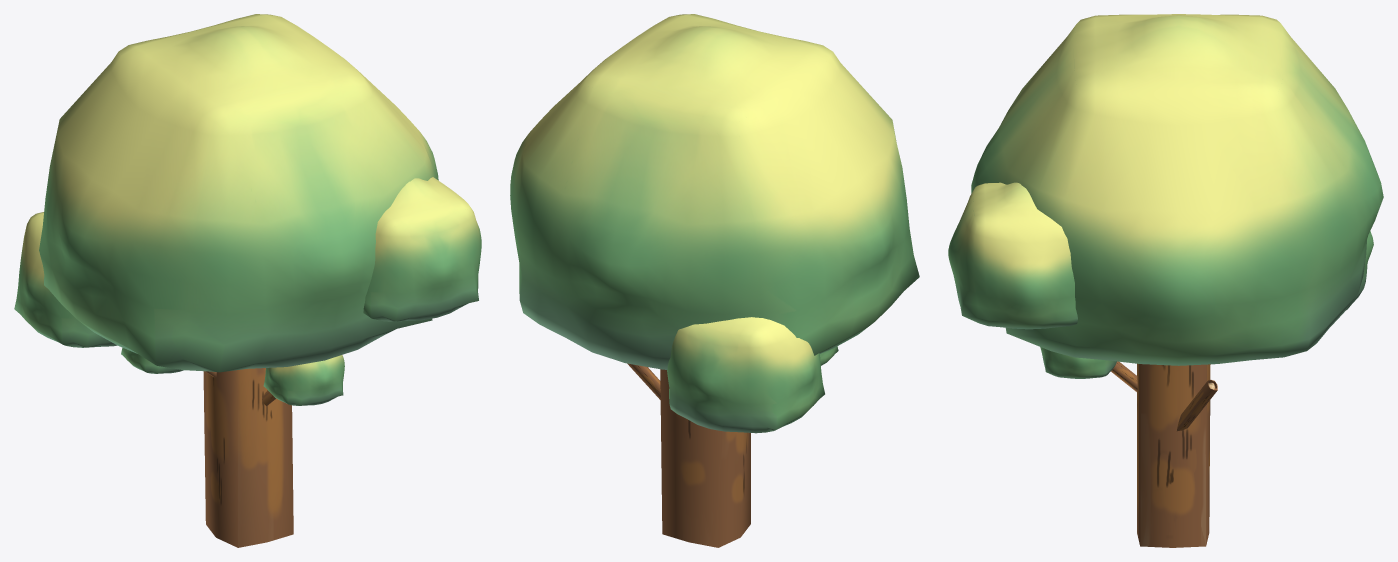
File: Arvore2.fbx
3 views of the same model, side by side, from view 1: azimuth 30°, elevation 25°; view 2: azimuth 150°, elevation 25°; view 3: azimuth 270°, elevation 25° (orthographic). The views are drawn at different scales.
Parts seen in each view (by area): view 1: ArvoreFolhas, ArvoreTronco, ArvoreFolhas.001, ArvoreFolhas.002, ArvoreFolhas.003, ArvoreFolhas.004; view 2: ArvoreFolhas, ArvoreFolhas.002, ArvoreTronco; view 3: ArvoreFolhas, ArvoreFolhas.001, ArvoreTronco, ArvoreFolhas.003, ArvoreTronco.002.
Boxes of the visible parts, <box> form: ArvoreFolhas: <box>39,14,438,372</box>; ArvoreTronco: <box>203,368,293,547</box>; ArvoreFolhas.001: <box>363,177,481,321</box>; ArvoreFolhas.002: <box>14,212,117,347</box>; ArvoreFolhas.003: <box>263,355,344,405</box>; ArvoreFolhas.004: <box>121,347,183,373</box>; ArvoreFolhas: <box>510,14,919,369</box>; ArvoreFolhas.002: <box>667,317,824,433</box>; ArvoreTronco: <box>660,369,750,547</box>; ArvoreFolhas: <box>971,14,1383,365</box>; ArvoreFolhas.001: <box>948,182,1077,329</box>; ArvoreTronco: <box>1137,363,1210,547</box>; ArvoreFolhas.003: <box>1040,347,1116,378</box>; ArvoreTronco.002: <box>1177,380,1217,431</box>.
Bounding box in the file's own units: 1199 × 1571 × 1219.
2 materials, 2 textured.
